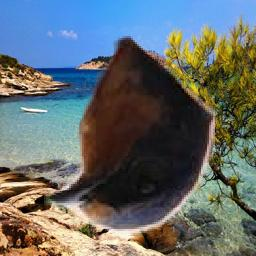Swallow: (45, 36, 216, 236)
